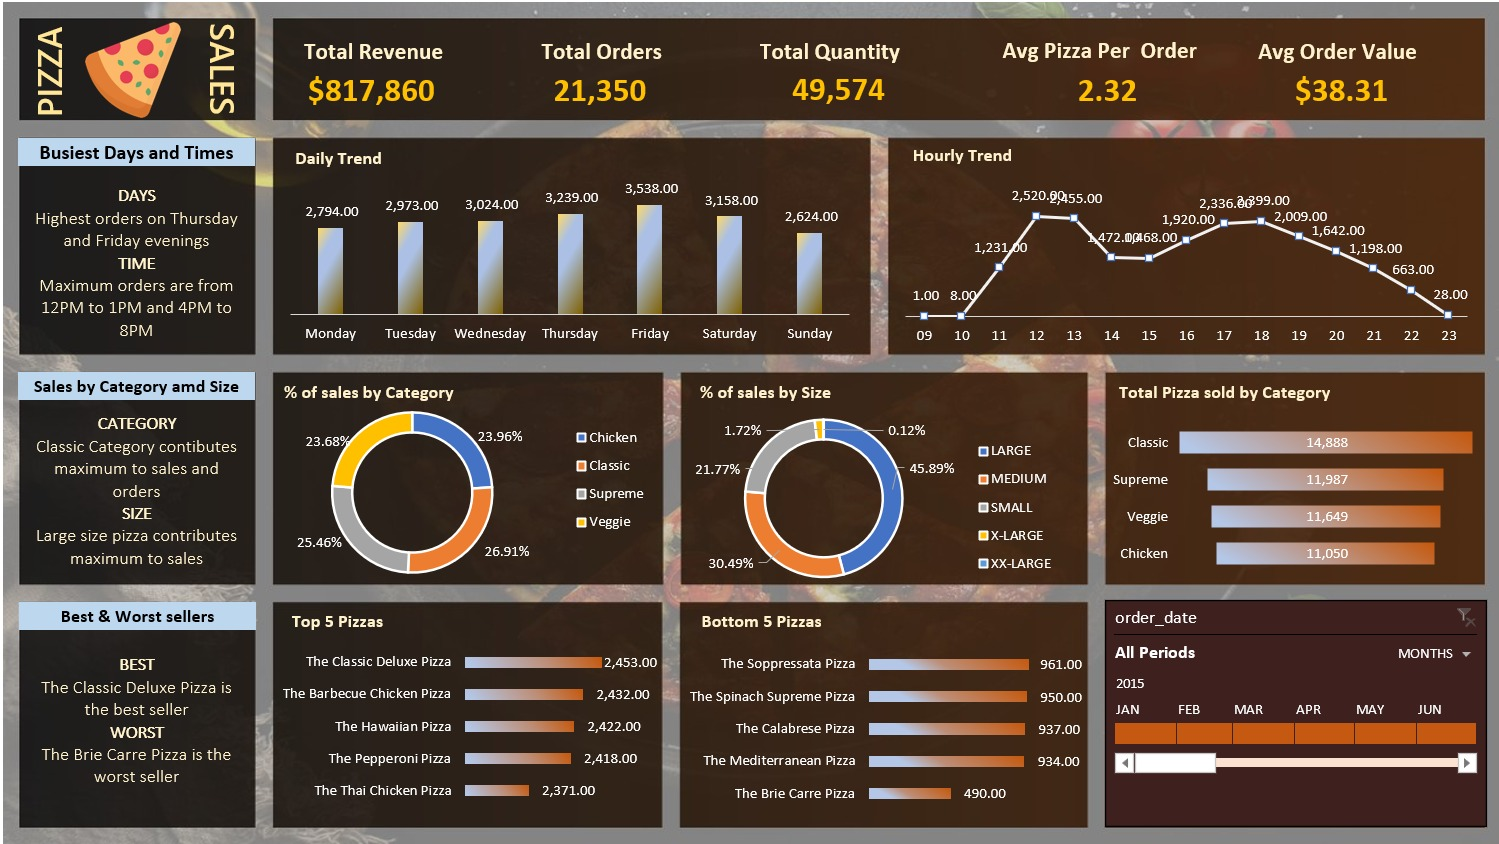

The page's visual inventory and layout, read from the dashboard file:
{"tool":"powerbi","page":{"name":"HOME","canvas":[1500,820],"ordinal":0},"visuals":[{"type":"textbox","box":[32.3,290.5,201.7,190.4],"z":0},{"type":"cardVisual","fields":{"Data":["pizza_sales.Total Revenue","pizza_sales.Avg Order Value","pizza_sales.Total Pizzas Sold","pizza_sales.Toatl Orders","pizza_sales.Avg Pizzas per order"]},"box":[247,90.9,1228.8,153],"z":1000},{"type":"shape","box":[21.2,21.2,1454.5,59.1],"z":2000},{"type":"textbox","box":[577.3,21.2,309.1,48.5],"z":3000},{"type":"textbox","box":[601.7,50,260,41.7],"z":4000},{"type":"image","box":[510.6,21.2,66.7,47],"z":5000},{"type":"shape","box":[246.7,245,593.3,290],"z":6000},{"type":"clusteredColumnChart","title":"Day Wise Trend","fields":{"Y":["pizza_sales.Total Orders"],"Category":["pizza_sales.Order Day"]},"box":[265,260,555,261.7],"z":7000},{"type":"shape","box":[840,246.7,635,288.3],"z":8000},{"type":"stackedAreaChart","title":"Monthly Trend","fields":{"Category":["pizza_sales.Order Month"],"Y":["pizza_sales.Total Orders"]},"box":[861.7,260,591.7,261.7],"z":9000},{"type":"shape","box":[246.7,535,401.7,285],"z":10000},{"type":"shape","box":[1056.7,535,418.3,285],"z":11000},{"type":"shape","box":[648.3,535,408.3,285],"z":12000},{"type":"donutChart","title":"% of Sales by Category","fields":{"Category":["pizza_sales.pizza_category"],"Y":["pizza_sales.Total Revenue"]},"box":[265,553.3,366.7,246.7],"z":13000},{"type":"donutChart","title":"% of Sales by Size","fields":{"Y":["pizza_sales.Total Revenue"],"Category":["pizza_sales.pizza_size"]},"box":[661.7,553.3,380,246.7],"z":14000},{"type":"funnel","fields":{"Y":["pizza_sales.Total Pizzas Sold"],"Category":["pizza_sales.pizza_category"]},"box":[1073.3,553.3,380,246.7],"z":15000},{"type":"shape","box":[20.7,79.5,225.9,741.2],"z":16000},{"type":"textbox","box":[31.8,284.7,202,38.2],"z":17000},{"type":"textbox","box":[31.8,322.9,202,211.5],"z":18000},{"type":"textbox","box":[31.8,534.4,202,49.3],"z":19000},{"type":"textbox","box":[31.8,583.7,202,216.3],"z":20000},{"type":"slicer","fields":{"Values":["pizza_sales.pizza_category"]},"box":[32.3,96.8,201.7,83.9],"z":21000},{"type":"pageNavigator","box":[33.9,208.2,201.7,62.9],"z":21002}]}

Visuals, with their boxes in screenshot pixels (x1, y1, x2, y2), scaled from the page's 1500x820 canvas onto the 1499x844 screenshot:
textbox: pyautogui.locateOnScreen(32, 299, 234, 495)
cardVisual - pizza_sales.Total Revenue x pizza_sales.Avg Order Value: pyautogui.locateOnScreen(247, 94, 1475, 251)
shape: pyautogui.locateOnScreen(21, 22, 1475, 83)
textbox: pyautogui.locateOnScreen(577, 22, 886, 72)
textbox: pyautogui.locateOnScreen(601, 51, 861, 94)
image: pyautogui.locateOnScreen(510, 22, 577, 70)
shape: pyautogui.locateOnScreen(247, 252, 839, 551)
"Day Wise Trend" clusteredColumnChart: pyautogui.locateOnScreen(265, 268, 819, 537)
shape: pyautogui.locateOnScreen(839, 254, 1474, 551)
"Monthly Trend" stackedAreaChart: pyautogui.locateOnScreen(861, 268, 1452, 537)
shape: pyautogui.locateOnScreen(247, 551, 648, 843)
shape: pyautogui.locateOnScreen(1056, 551, 1474, 843)
shape: pyautogui.locateOnScreen(648, 551, 1056, 843)
"% of Sales by Category" donutChart: pyautogui.locateOnScreen(265, 569, 631, 823)
"% of Sales by Size" donutChart: pyautogui.locateOnScreen(661, 569, 1041, 823)
funnel - pizza_sales.Total Pizzas Sold x pizza_sales.pizza_category: pyautogui.locateOnScreen(1073, 569, 1452, 823)
shape: pyautogui.locateOnScreen(21, 82, 246, 843)
textbox: pyautogui.locateOnScreen(32, 293, 234, 332)
textbox: pyautogui.locateOnScreen(32, 332, 234, 550)
textbox: pyautogui.locateOnScreen(32, 550, 234, 601)
textbox: pyautogui.locateOnScreen(32, 601, 234, 823)
slicer - pizza_sales.pizza_category: pyautogui.locateOnScreen(32, 100, 234, 186)
pageNavigator: pyautogui.locateOnScreen(34, 214, 235, 279)
